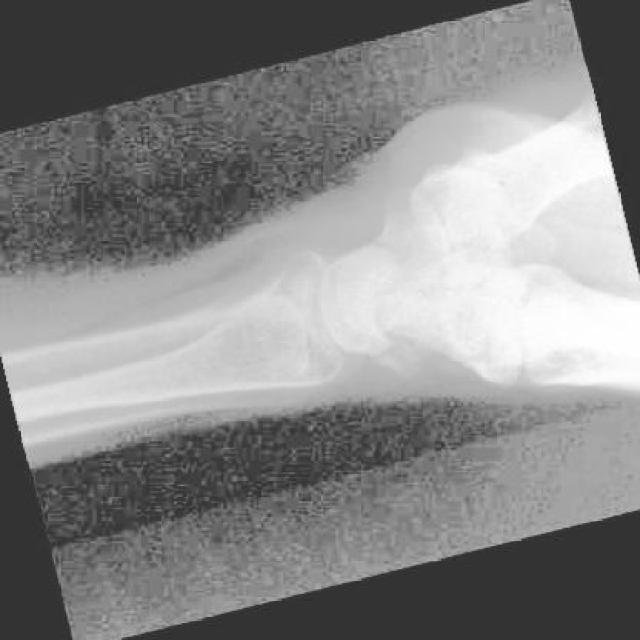Fracture: (442, 277, 541, 394)
